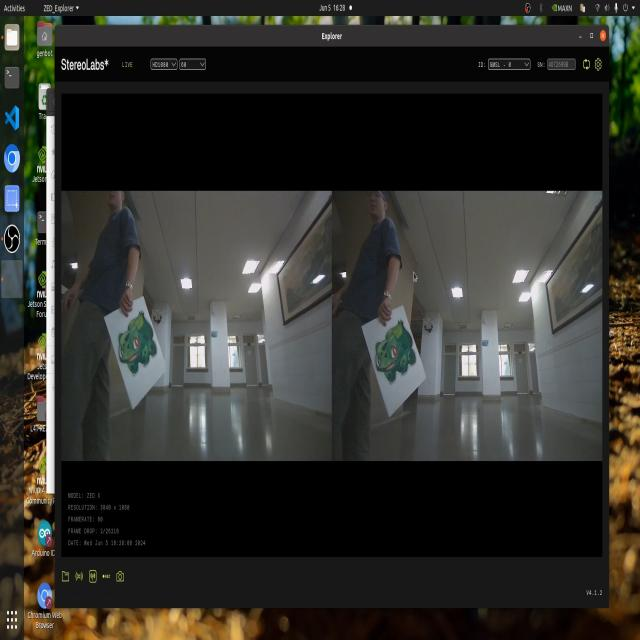green: (379, 323, 417, 388), (119, 312, 159, 368)
